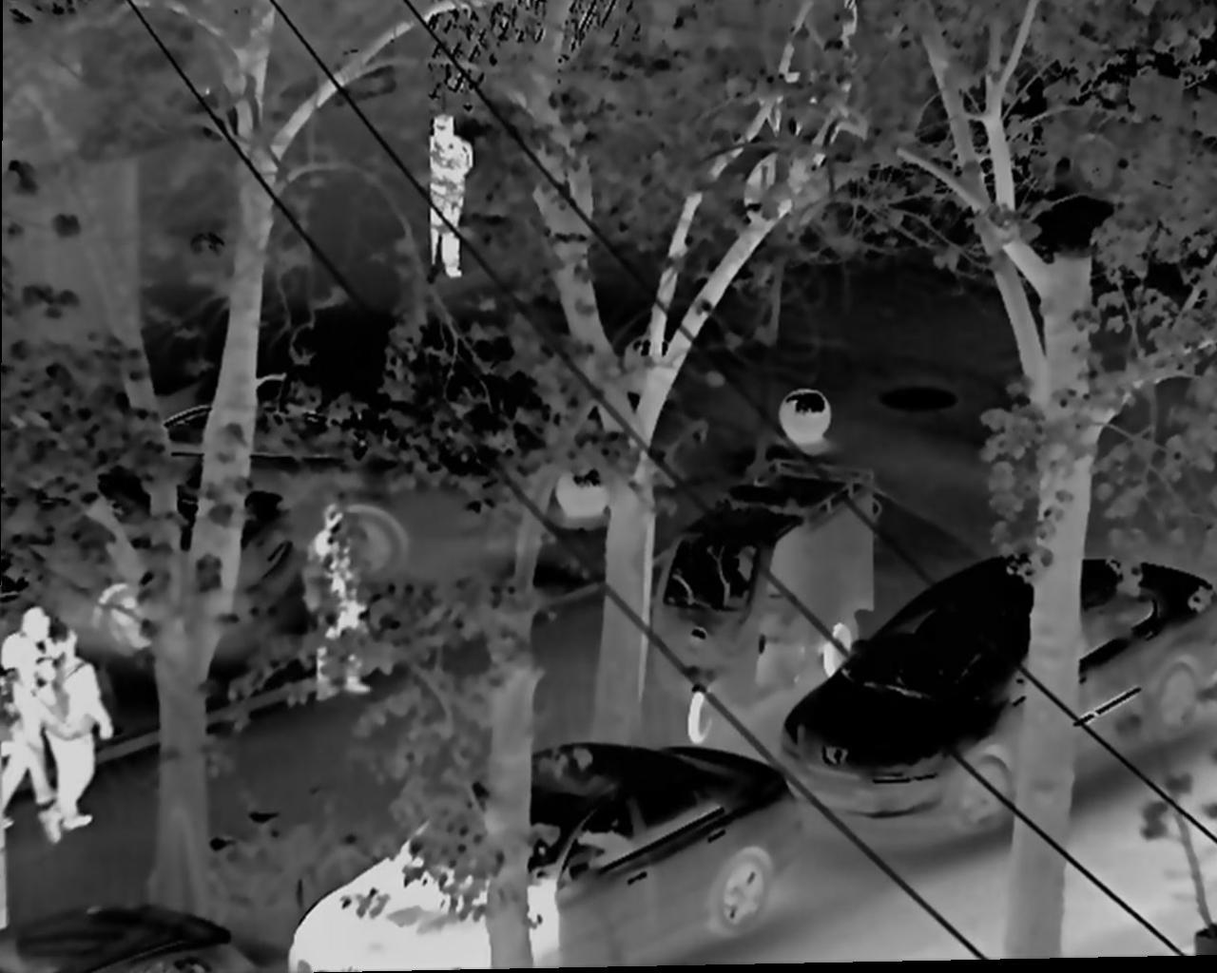person: (294, 502, 396, 713), (44, 626, 113, 849), (419, 106, 482, 279)
